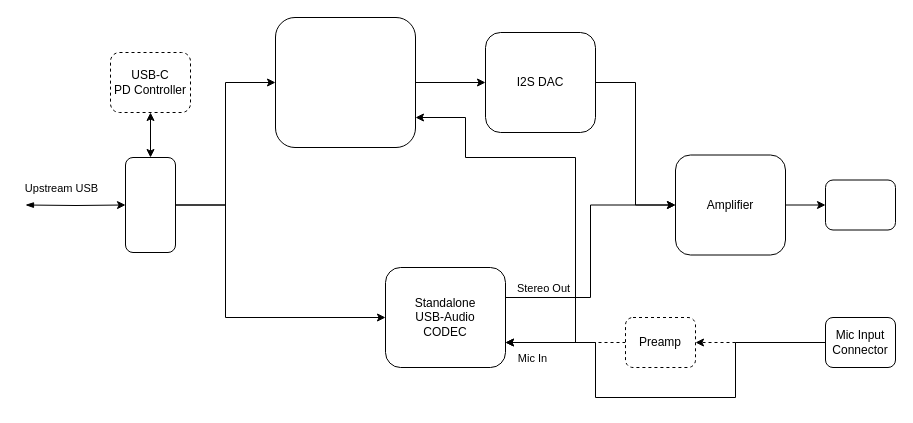
Image size: 913x423. Some labels were removed from this diagram. The centre of each missing label's shape, as x and y in pixels:
"Microcontroller" belongs at point (345, 82).
"Stereo Out Connector" belongs at point (860, 204).
"USB-C" belongs at point (150, 204).
